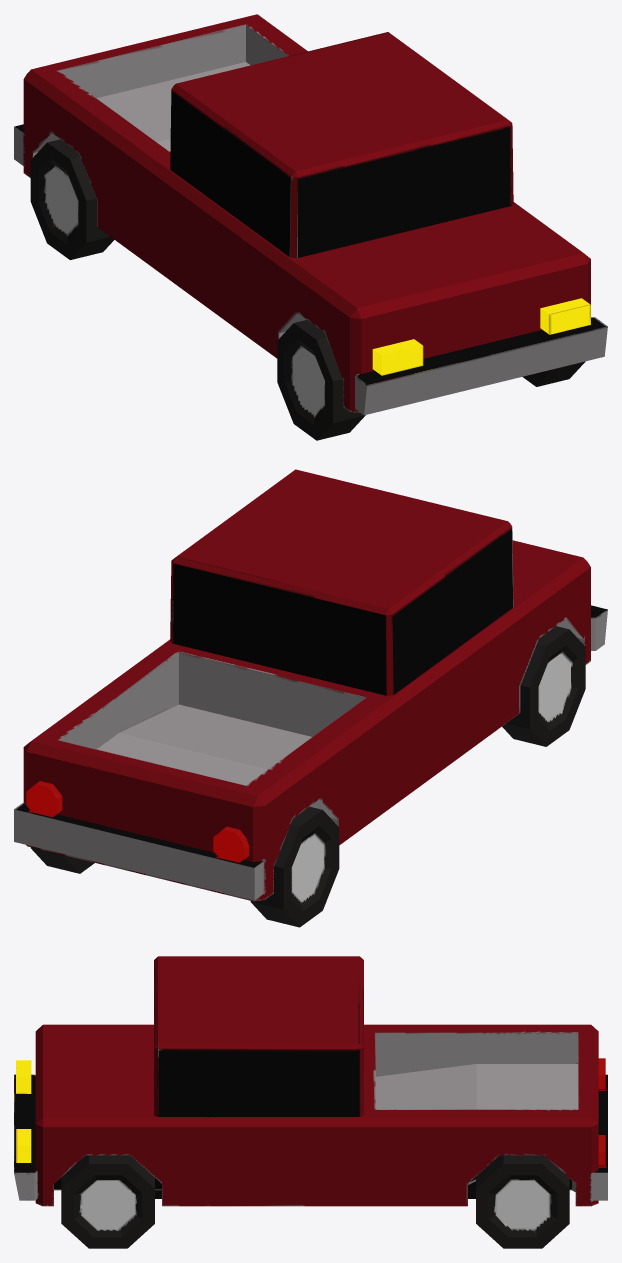
The model's file is Red track.fbx.
3 views of the same model, one above another, from view 1: azimuth 30°, elevation 25°; view 2: azimuth 150°, elevation 25°; view 3: azimuth 270°, elevation 25° (orthographic). The views are drawn at different scales.
Parts seen in each view (by area): view 1: Track red; view 2: Track red; view 3: Track red.
Part boxes in pixels (x1=…): Track red: x1=14, y1=14, x2=607, y2=440; Track red: x1=14, y1=469, x2=607, y2=927; Track red: x1=14, y1=956, x2=607, y2=1248.
Bounding box in the file's own units: 178 × 158 × 432.
1 material, 1 textured.
